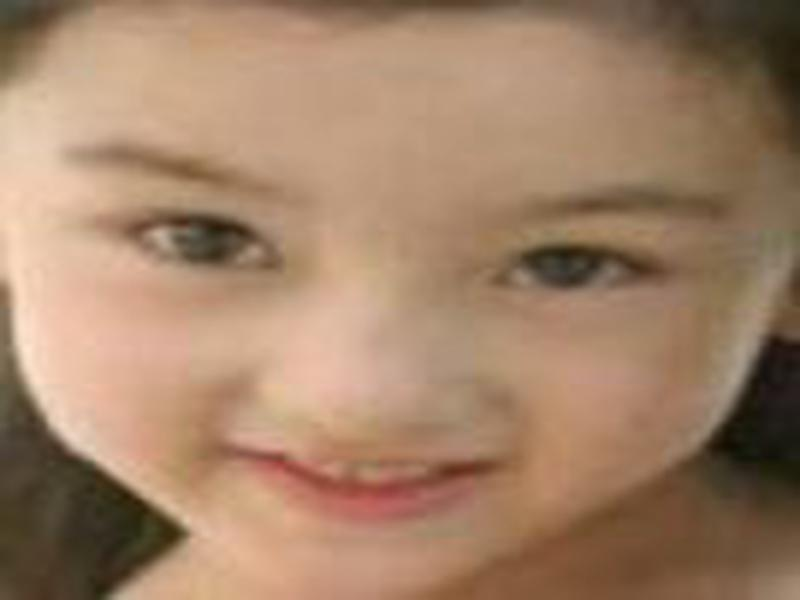without_mask: (1, 36, 776, 592)
